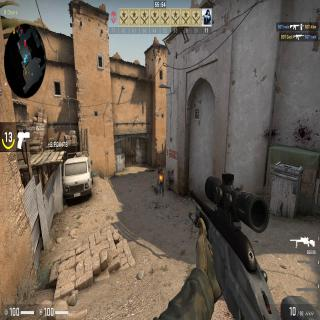T-Body: (159, 170, 165, 198), (157, 163, 162, 183), (131, 150, 135, 166), (122, 151, 126, 165)
T-Head: (161, 169, 163, 173), (159, 164, 160, 167), (132, 150, 133, 153), (123, 152, 124, 154)
